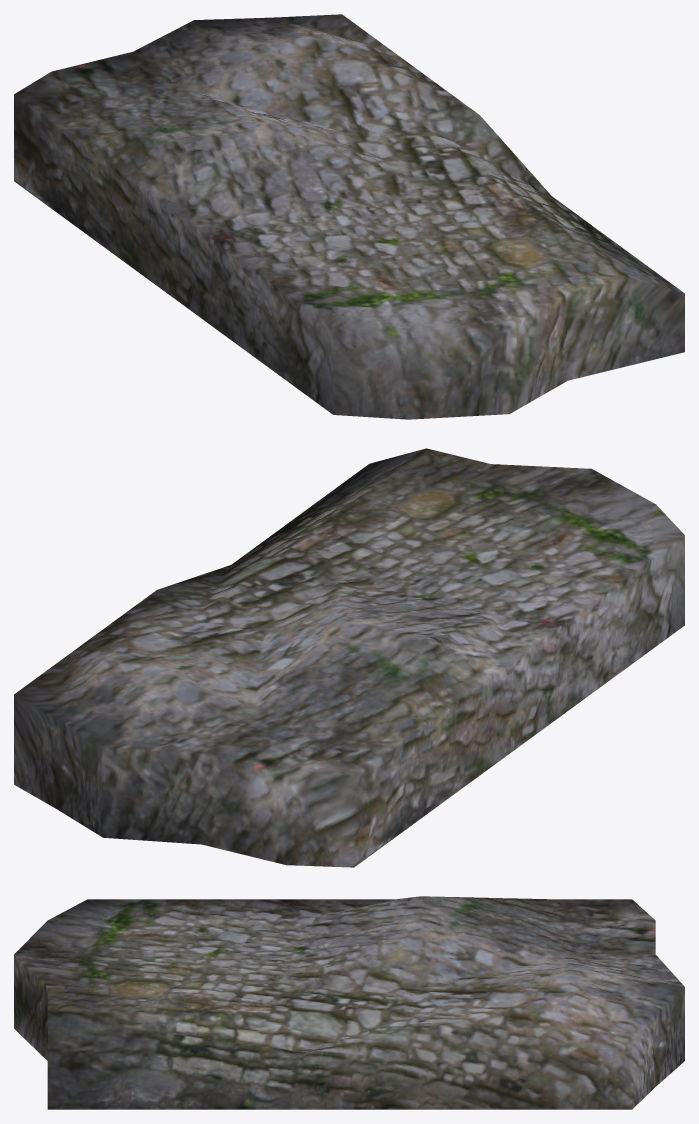
File: castleruins piece nine.fbx
The picture shows the model from 3 angles, top to bottom: view 1: azimuth 30°, elevation 25°; view 2: azimuth 150°, elevation 25°; view 3: azimuth 270°, elevation 25°; orthographic projection. The views are drawn at different scales.
Parts seen in each view (by area): view 1: castleruins_nine; view 2: castleruins_nine; view 3: castleruins_nine.
Boxes of the visible parts, x1,y1,x2,y2 form: castleruins_nine: (14, 14, 684, 419); castleruins_nine: (14, 448, 684, 867); castleruins_nine: (14, 896, 684, 1109).
Size of the model in its own units: 52.04 by 17.49 by 108.
1 material, 1 textured.
